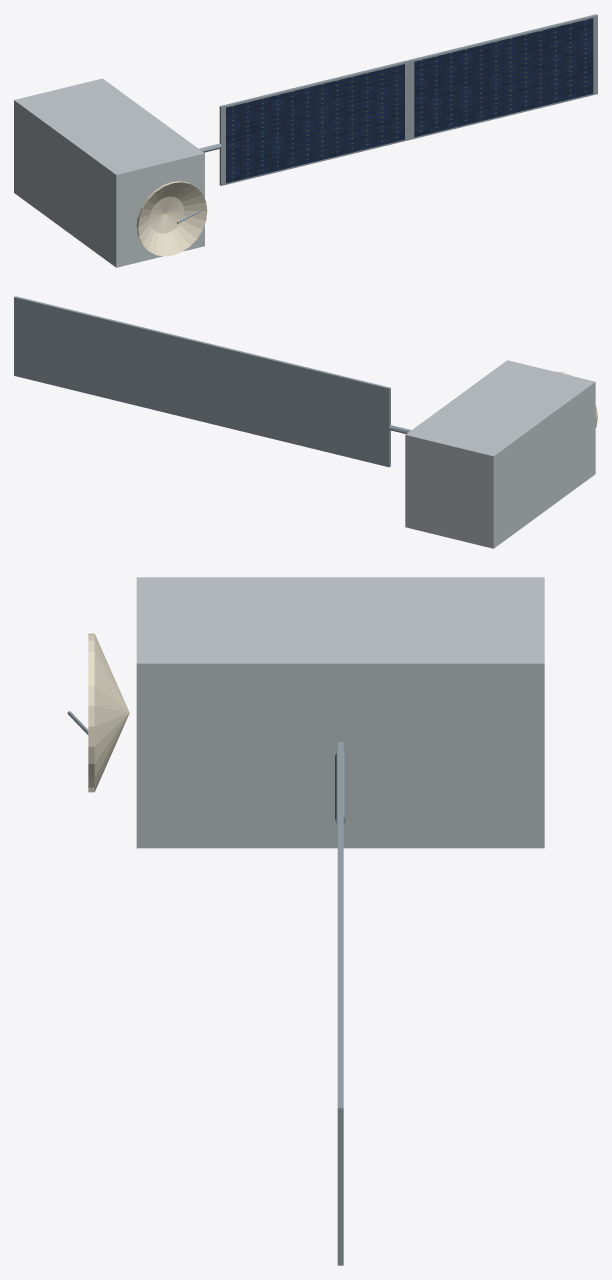
File: ref-biomass-63772.glb
The picture shows the model from 3 angles, top to bottom: view 1: azimuth 30°, elevation 25°; view 2: azimuth 150°, elevation 25°; view 3: azimuth 270°, elevation 25°; orthographic projection. The views are drawn at different scales.
Visible parts, largest first — view 1: Photovoltaic laminates (×2), Spacecraft body, Reflector dish, Array frame (×2); view 2: Array frame (×2), Spacecraft body; view 3: Spacecraft body, Reflector dish, Array frame (×2).
Part boxes in pixels (x1,y1,x2,y2): Photovoltaic laminates (×2): (226,18,593,183); Spacecraft body: (14,78,204,267); Reflector dish: (136,181,207,256); Array frame (×2): (219,14,597,185); Array frame (×2): (14,296,390,467); Spacecraft body: (405,360,595,548); Spacecraft body: (136,577,544,848); Reflector dish: (88,633,129,792); Array frame (×2): (337,742,343,1265).
Bounding box in the file's own units: 12 × 2 × 4.68.
4 materials, 1 textured.
